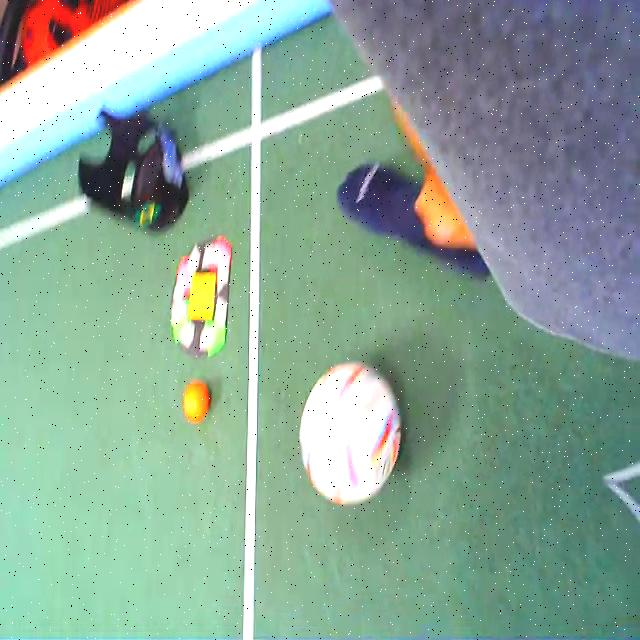ball: (300, 366, 402, 504)
